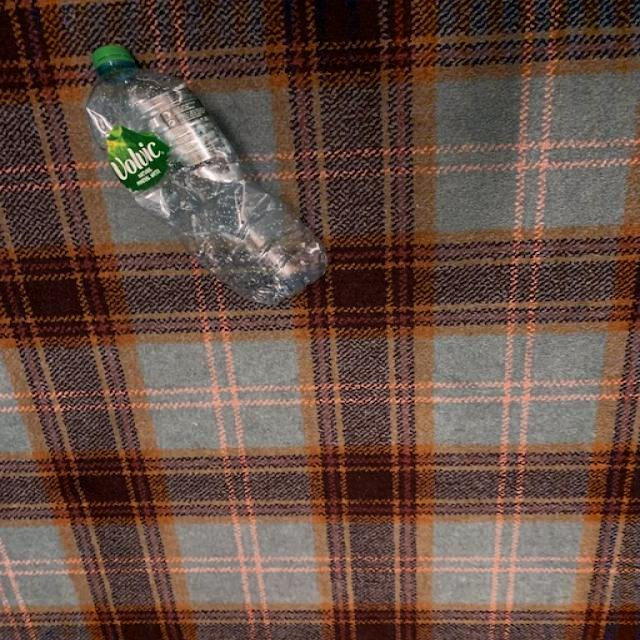bottle: (85, 45, 329, 306)
